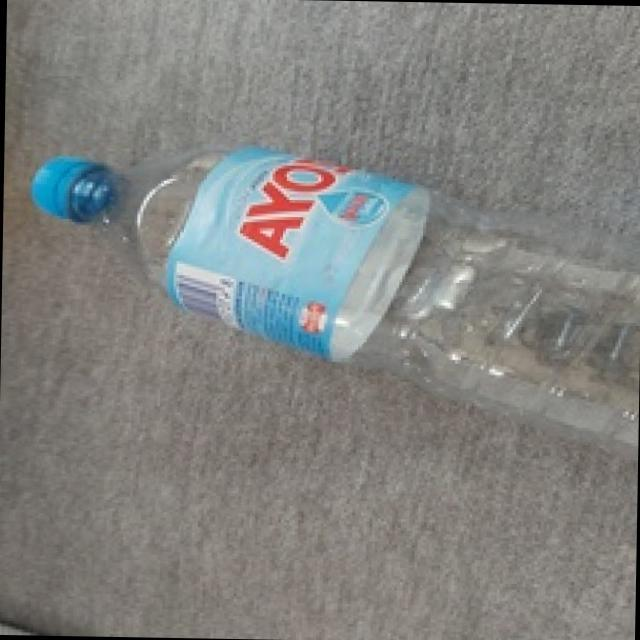defected: (21, 138, 640, 459)
